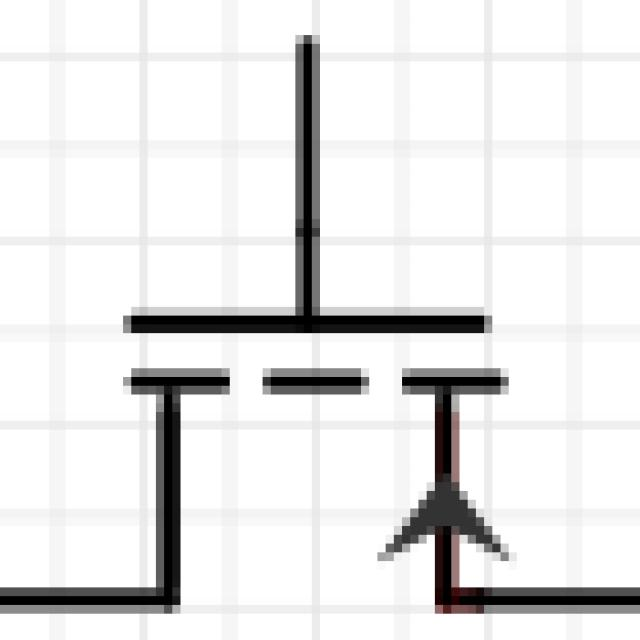pmos: (21, 24, 615, 640)
